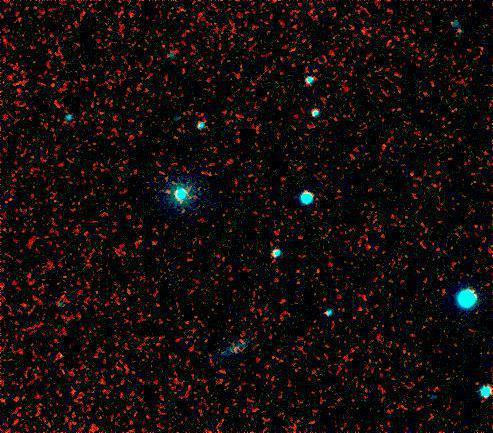star: (443, 19, 473, 49)
